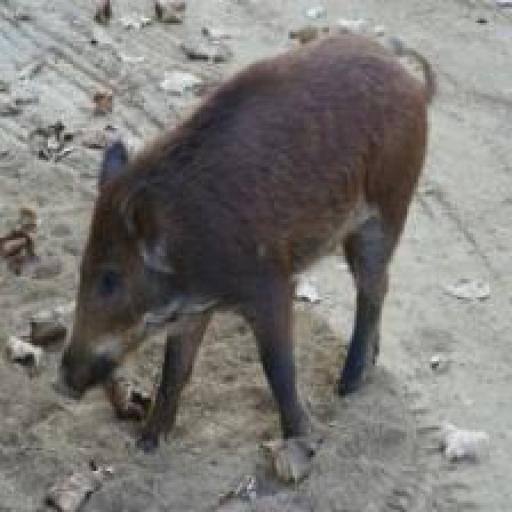Pig: (55, 20, 449, 486)
